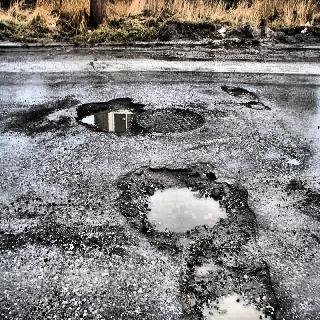pothole: (112, 160, 288, 320), (67, 87, 152, 151), (210, 76, 278, 118)
